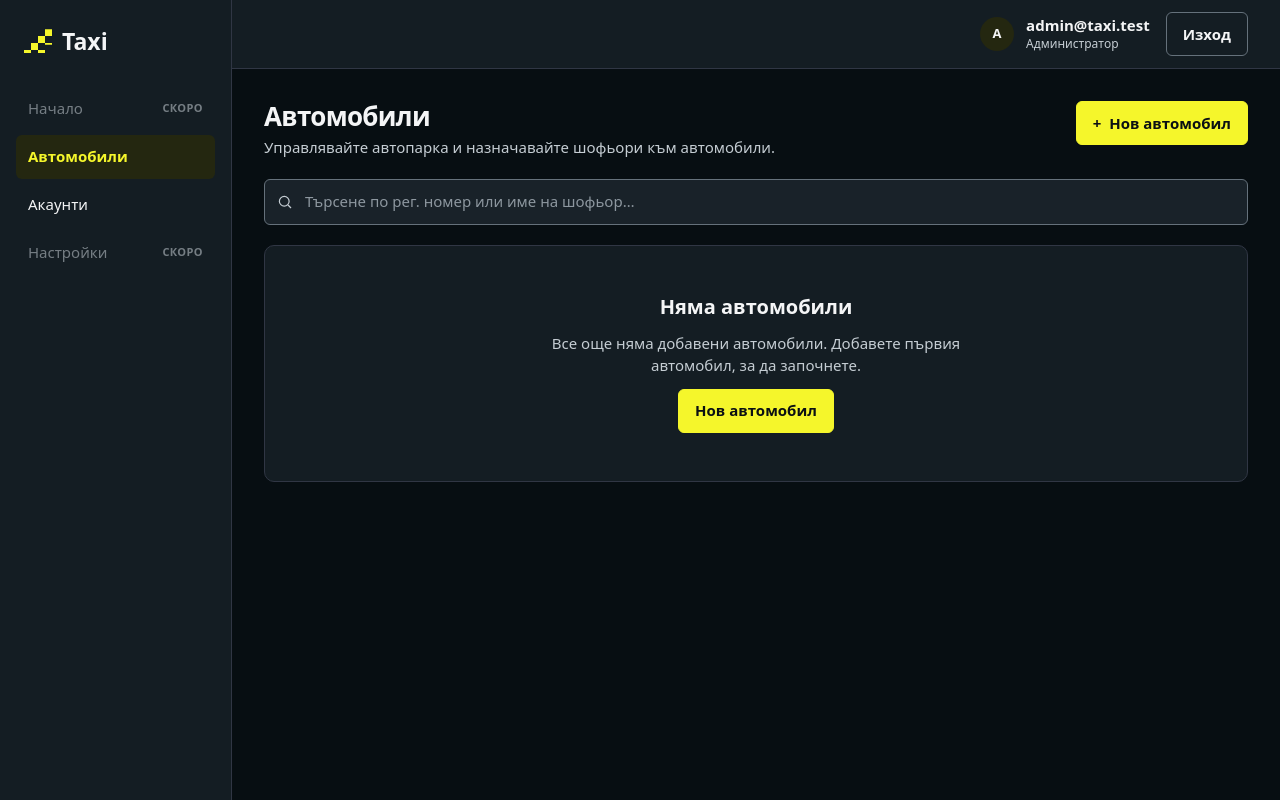
CarsPage (mocked car port, not live integration) › shows the empty state and opens the create dialog from it
Expected: the heading "Няма автомобили" is shown, [660, 294, 852, 320]
Click the button "Нов автомобил" at coordinates (756, 411), box [678, 389, 834, 433]
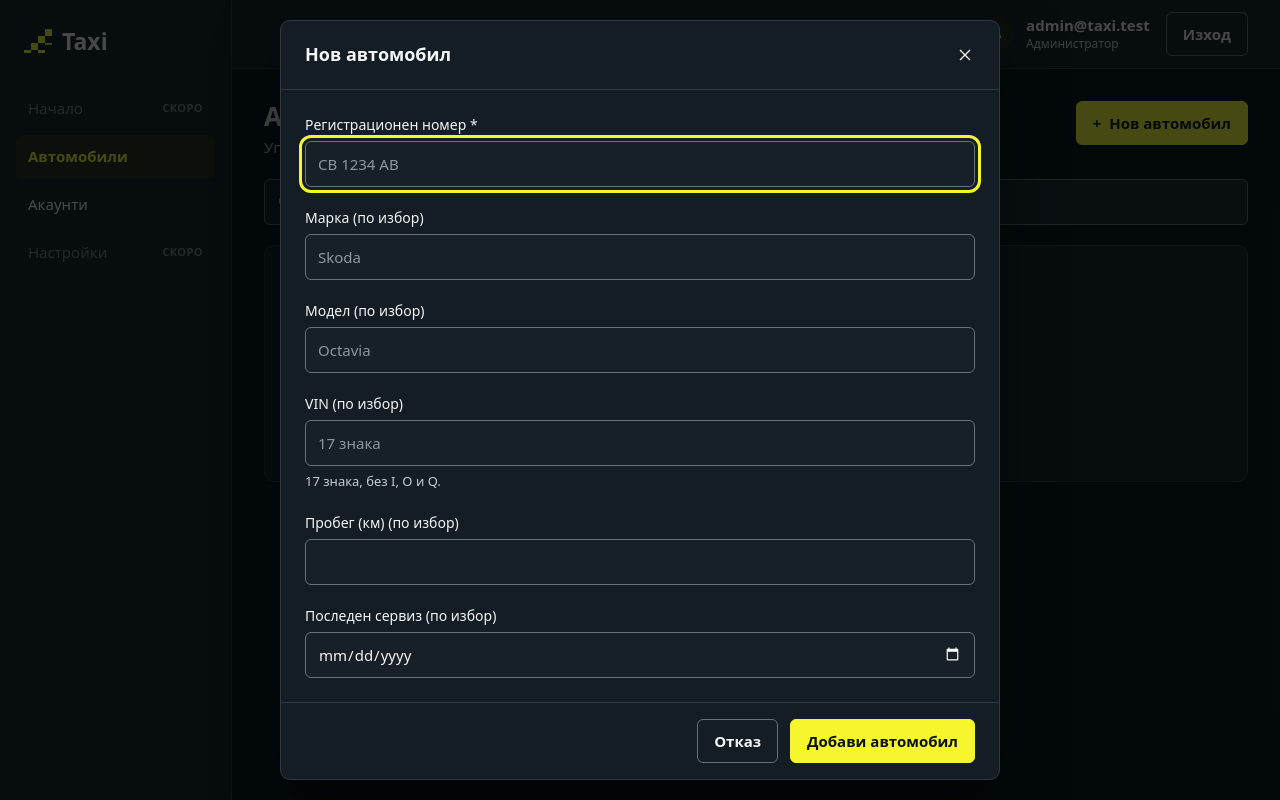
Expected: the dialog "Нов автомобил" is shown, [280, 20, 1000, 780]
